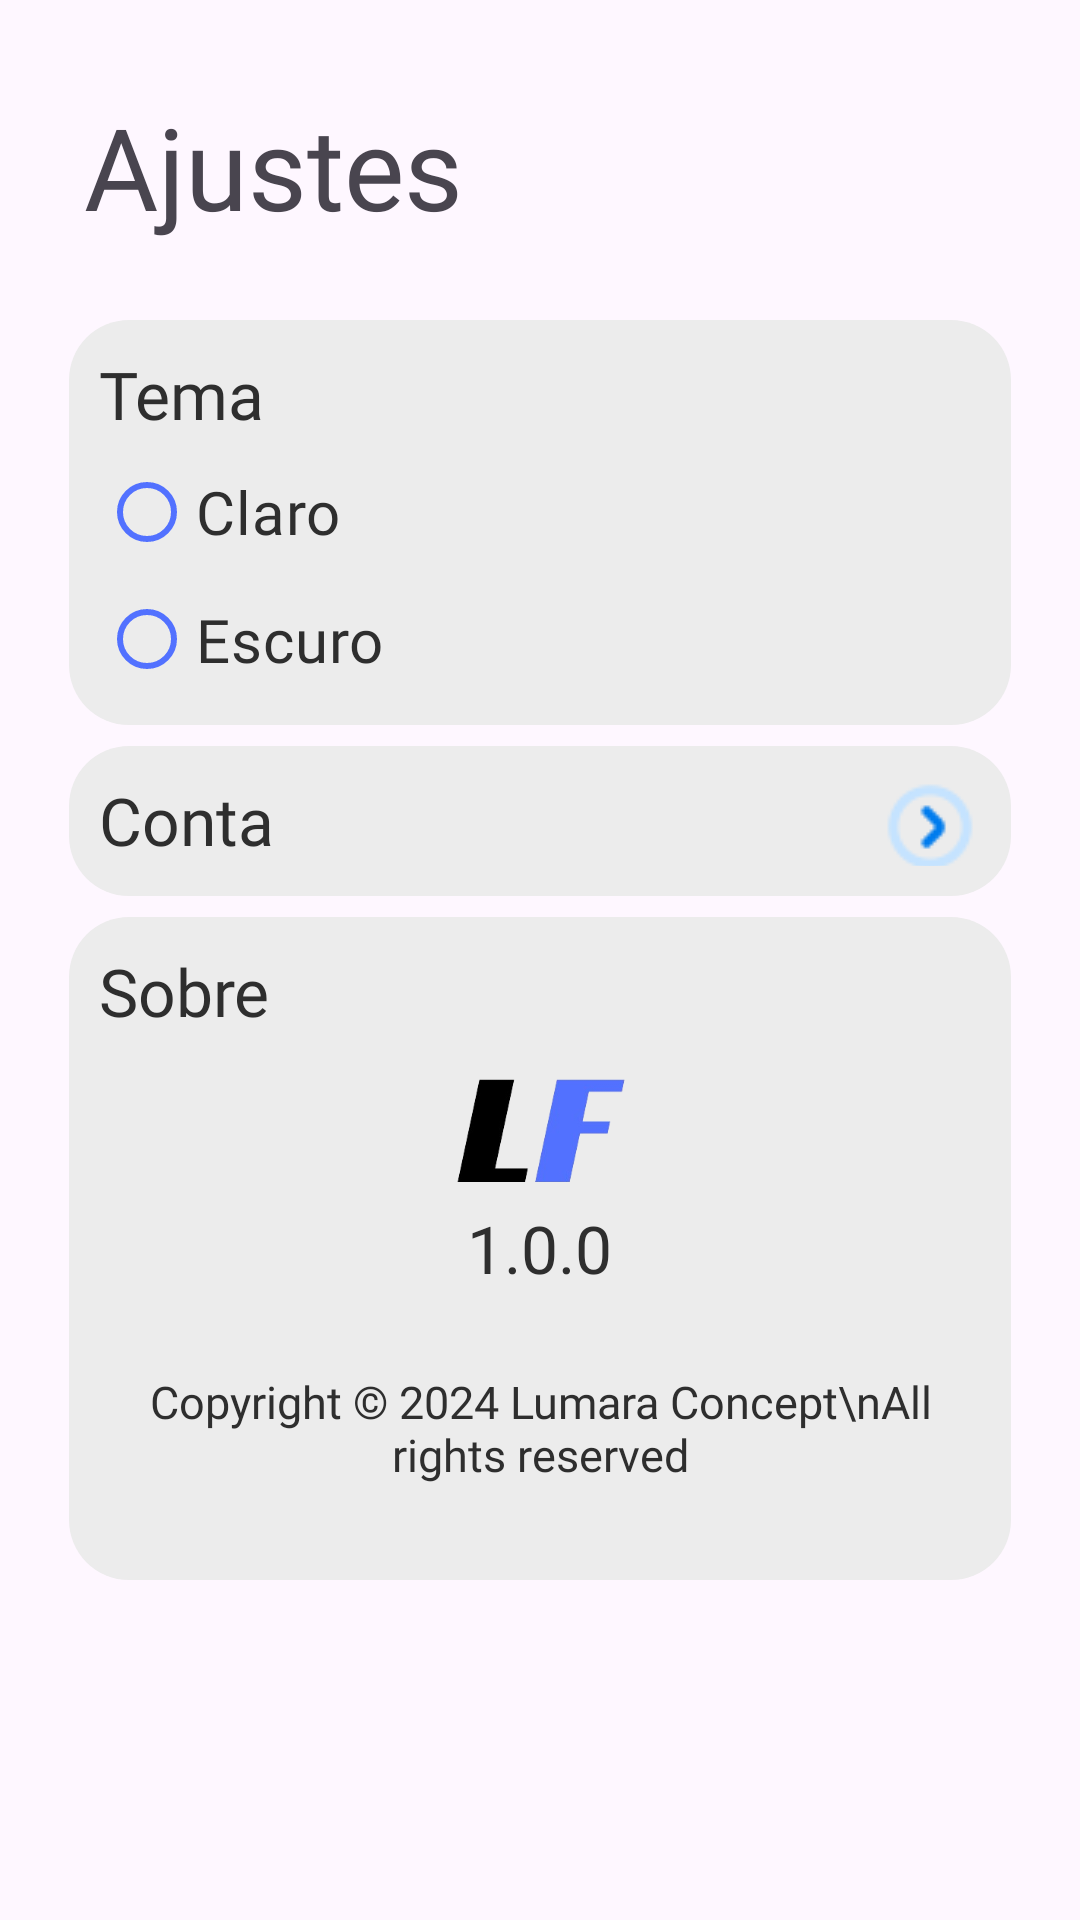

Named icons in this screenshot (1080px×1920px) and their centers, (x,y):
seta azul: (930,826)
